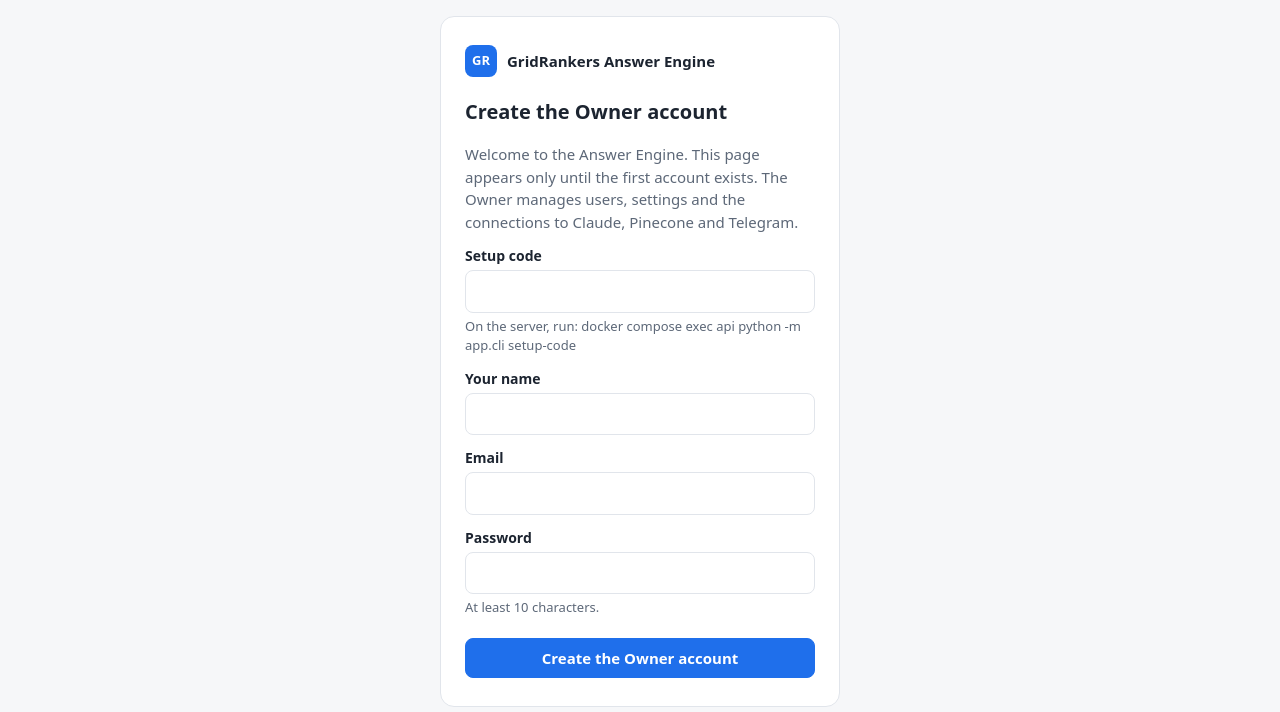
Test: a new install offers to create the Owner, then opens Settings
Expected: the heading "Create the Owner account" is shown, [465,98,727,125]
Expected: the text "python -m app.cli setup-code" is shown, [465,316,801,354]
In the field labelled "Setup code": (640,291) [465,270,815,312], type "ABCD-EFGH-JKLM"
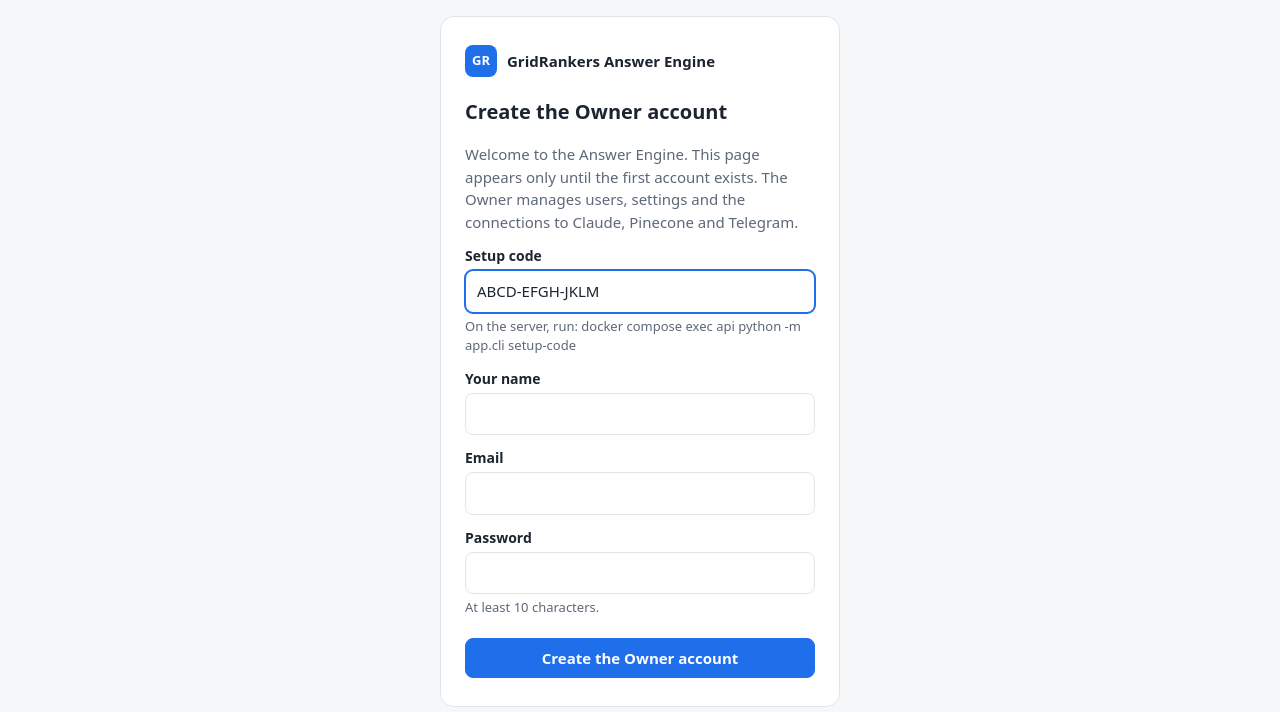
In the field labelled "Your name": (640,414) [465,392,815,435], type "Olivia"
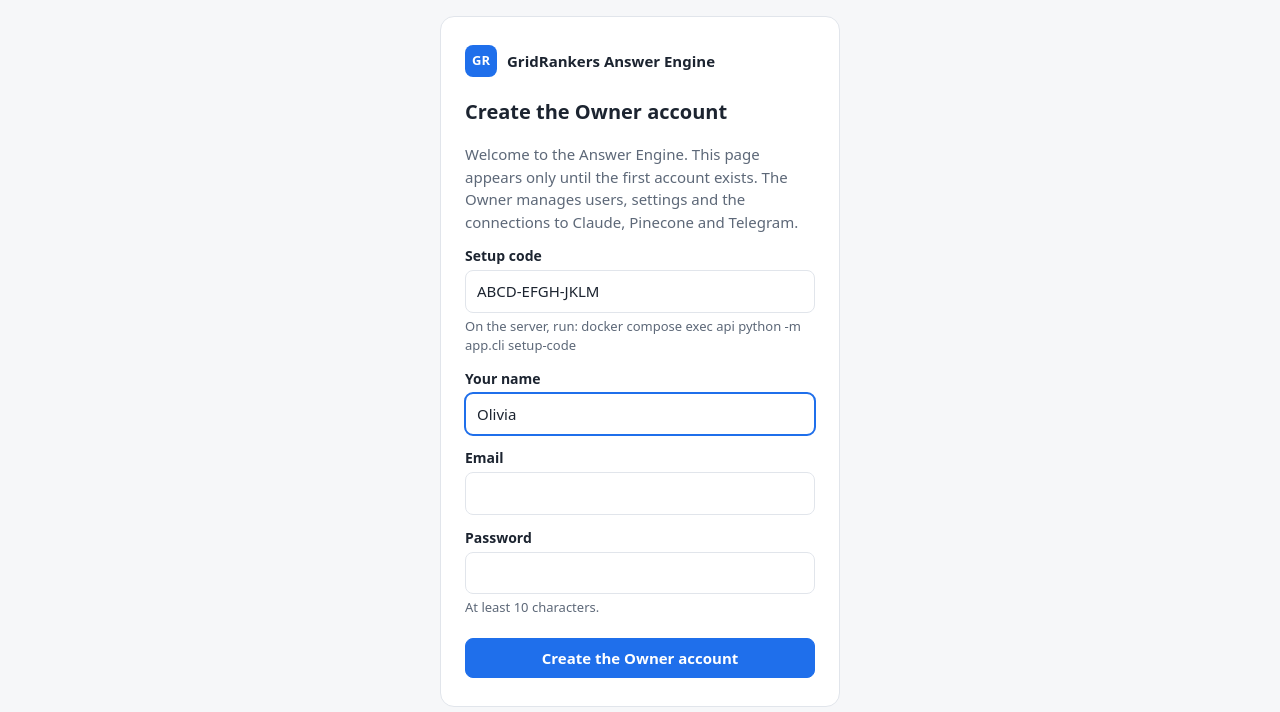
In the field labelled "Email": (640,493) [465,472,815,514], type "olivia@example.com"
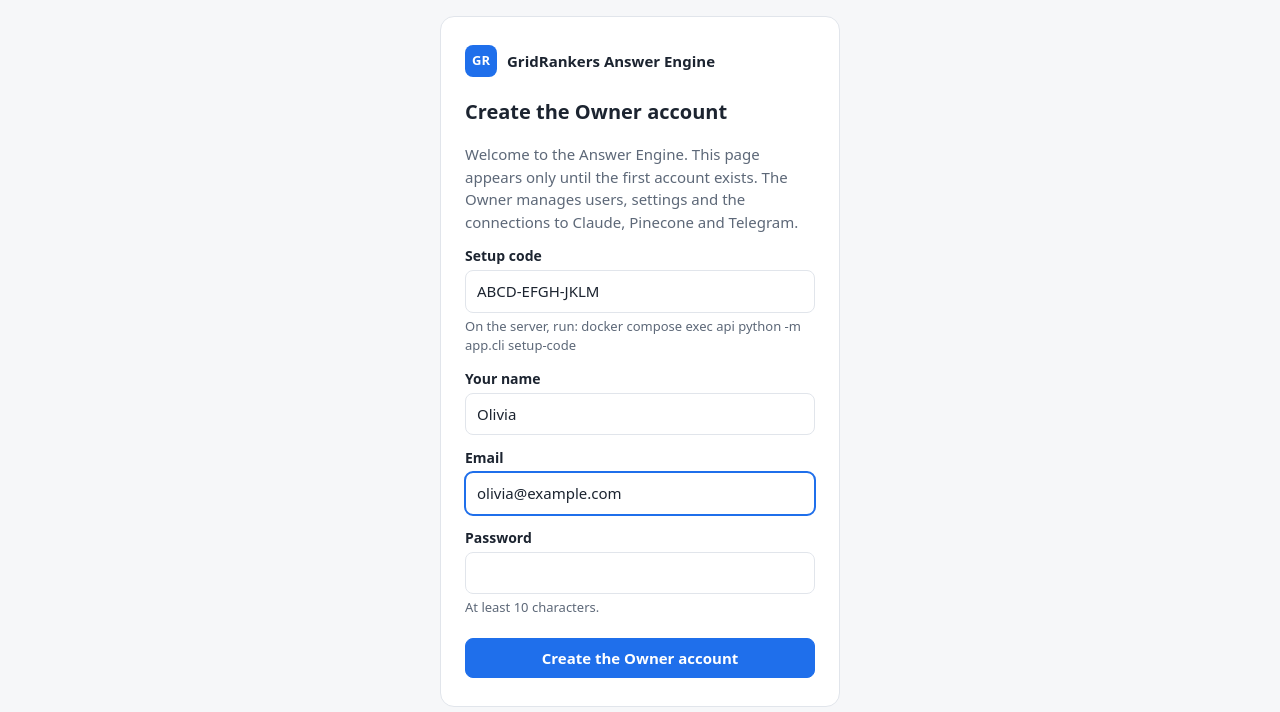
In the password field labelled "Password": (640,573) [465,552,815,594], type "a long passphrase"
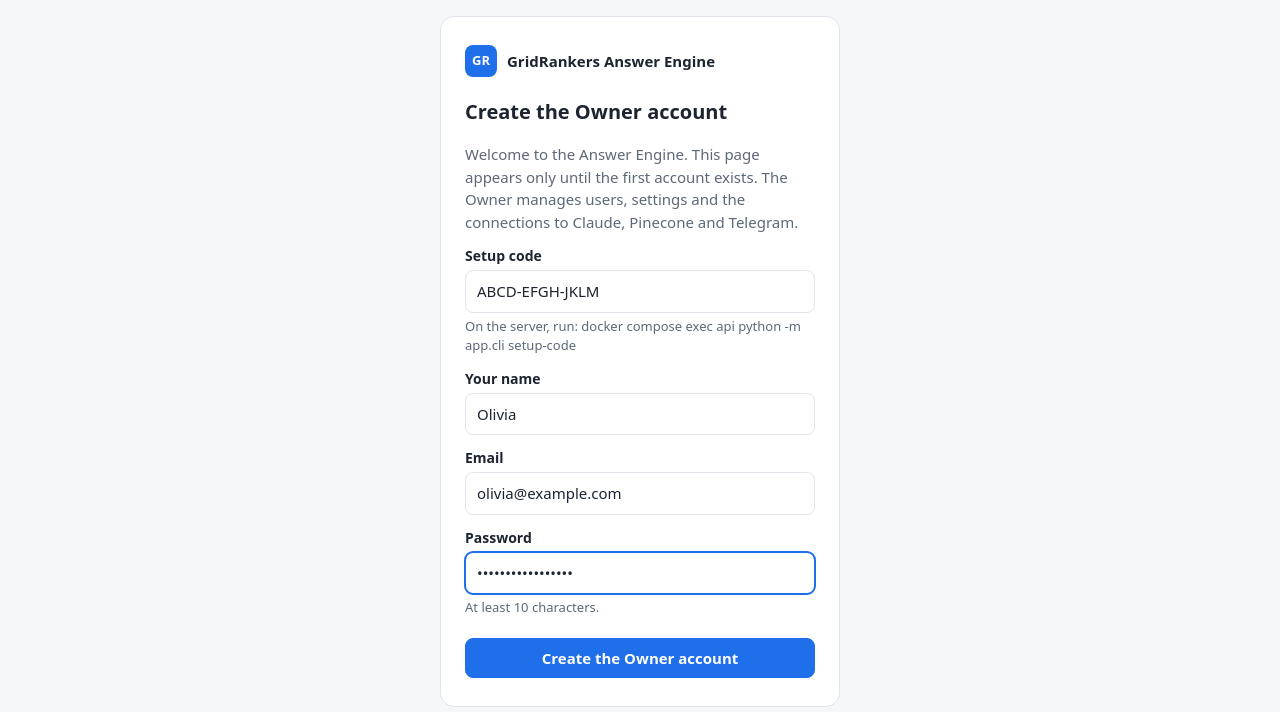
Click the button "Create the Owner account": (640,658) [465,638,815,678]
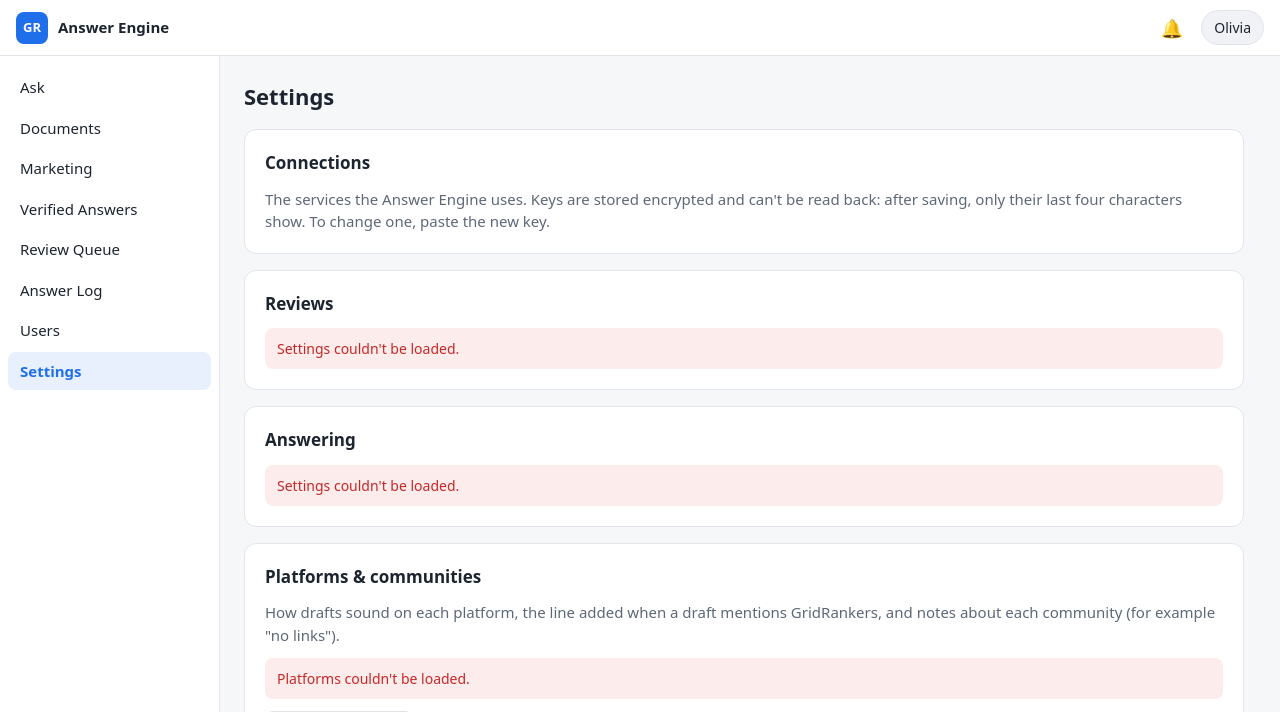
Expected: the heading "Settings" is shown, [244,81,334,111]
